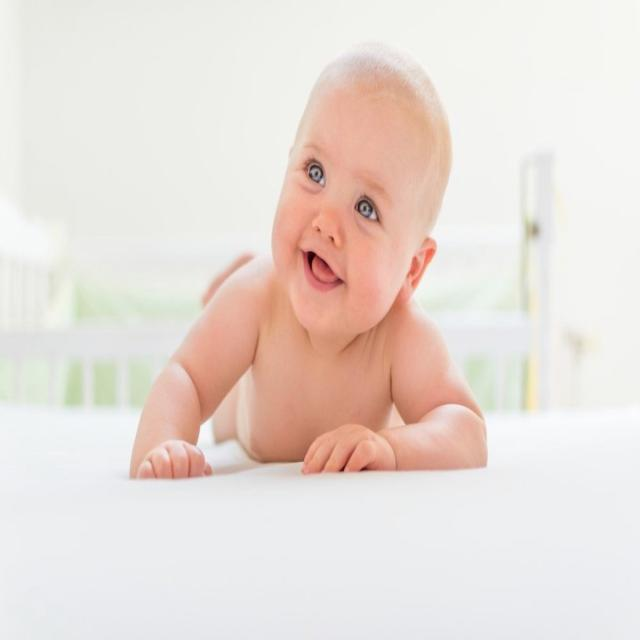child: (129, 39, 488, 480)
